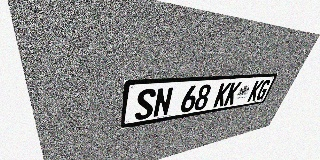6: (179, 85, 200, 113)
8: (193, 84, 213, 111)
G: (255, 80, 272, 101)
K: (213, 82, 232, 108), (223, 82, 242, 106), (247, 80, 264, 102)
N: (152, 87, 174, 118)
S: (134, 88, 157, 121)
